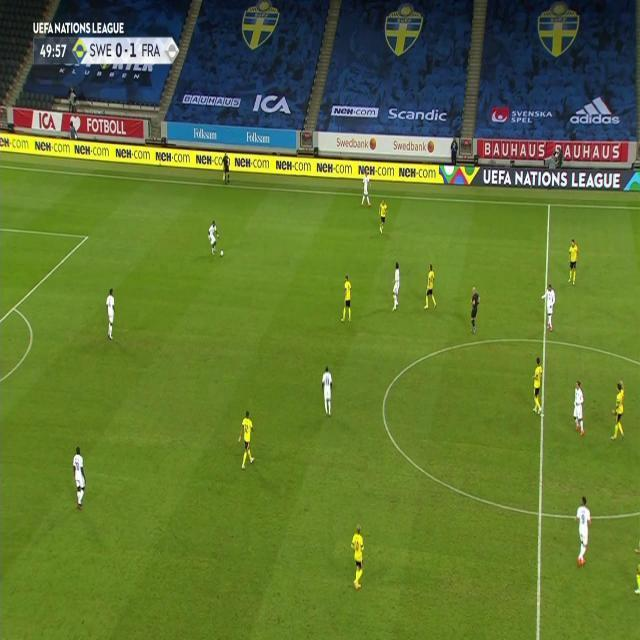ball: (219, 249, 225, 258)
player: (574, 495, 593, 567), (349, 522, 366, 591), (238, 410, 257, 470), (71, 445, 88, 511), (609, 379, 627, 441), (531, 356, 546, 417), (541, 282, 557, 333), (572, 379, 586, 437), (320, 363, 334, 417), (423, 263, 438, 311), (105, 287, 118, 341), (566, 237, 580, 286), (341, 273, 354, 323), (207, 219, 222, 257), (391, 261, 402, 312), (360, 168, 373, 207), (378, 198, 389, 236)
referee: (469, 284, 481, 336), (221, 151, 231, 185)
